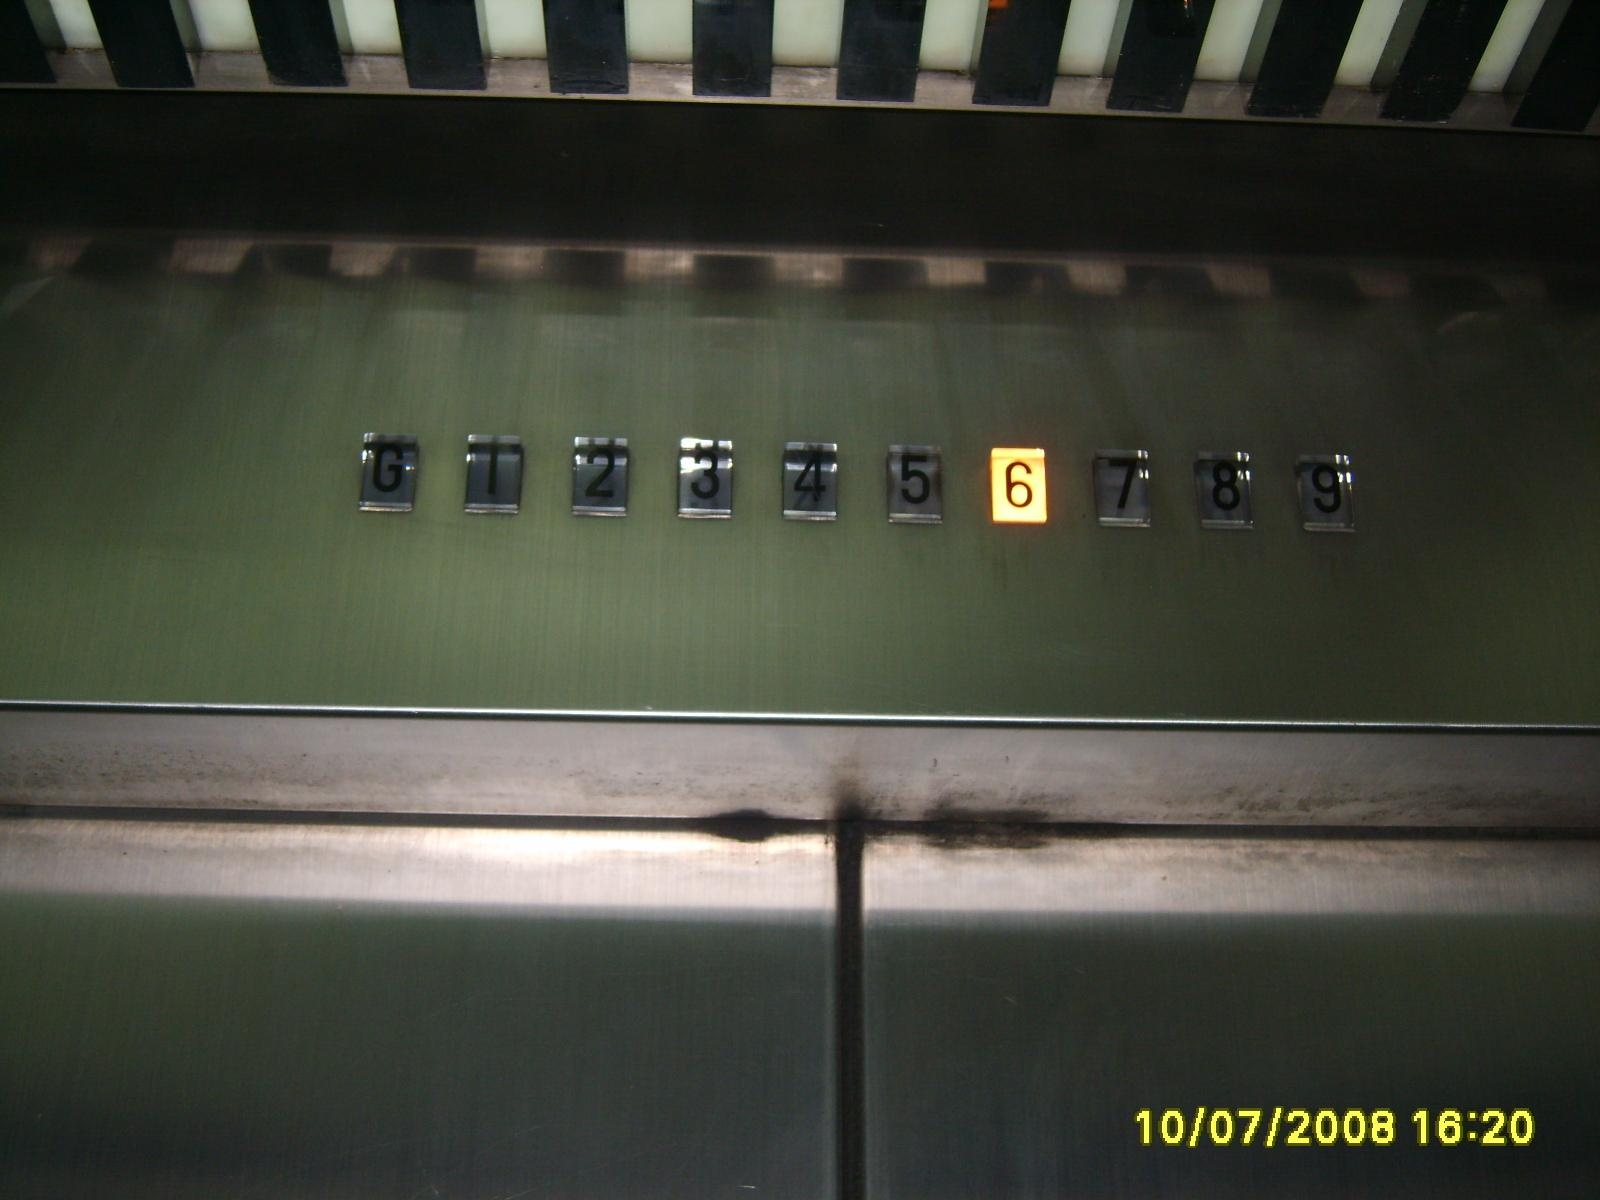1: (459, 431, 527, 517)
2: (568, 431, 631, 521)
3: (674, 434, 734, 523)
4: (781, 439, 839, 523)
5: (884, 442, 947, 524)
6: (986, 444, 1049, 526)
7: (1091, 447, 1154, 529)
8: (1194, 449, 1256, 529)
9: (1295, 451, 1358, 533)
G: (354, 430, 421, 518)
